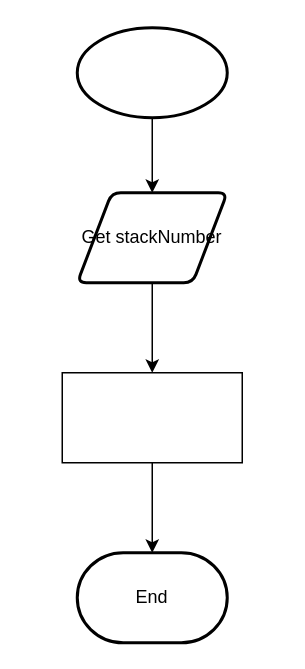
This 305x669 diagram has some shape labels left out. The centre of each missing label's shape, as x and y in pixels:
"stackAsList.push(stackNumber)" goes at point (151, 417).
"Start" goes at point (151, 72).
